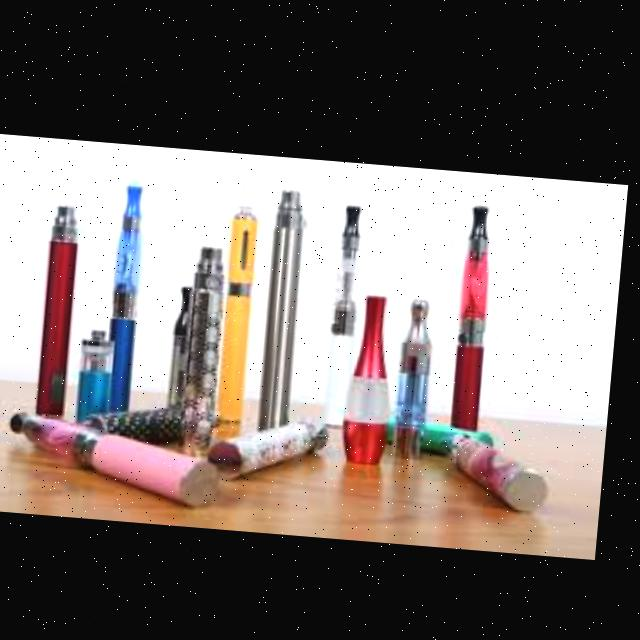vape: (13, 411, 232, 505), (264, 184, 312, 428), (220, 181, 265, 438), (456, 196, 501, 423), (109, 183, 153, 415), (186, 241, 234, 448), (329, 198, 371, 424), (42, 203, 86, 416), (400, 290, 442, 453), (81, 326, 121, 424), (173, 281, 199, 405)
